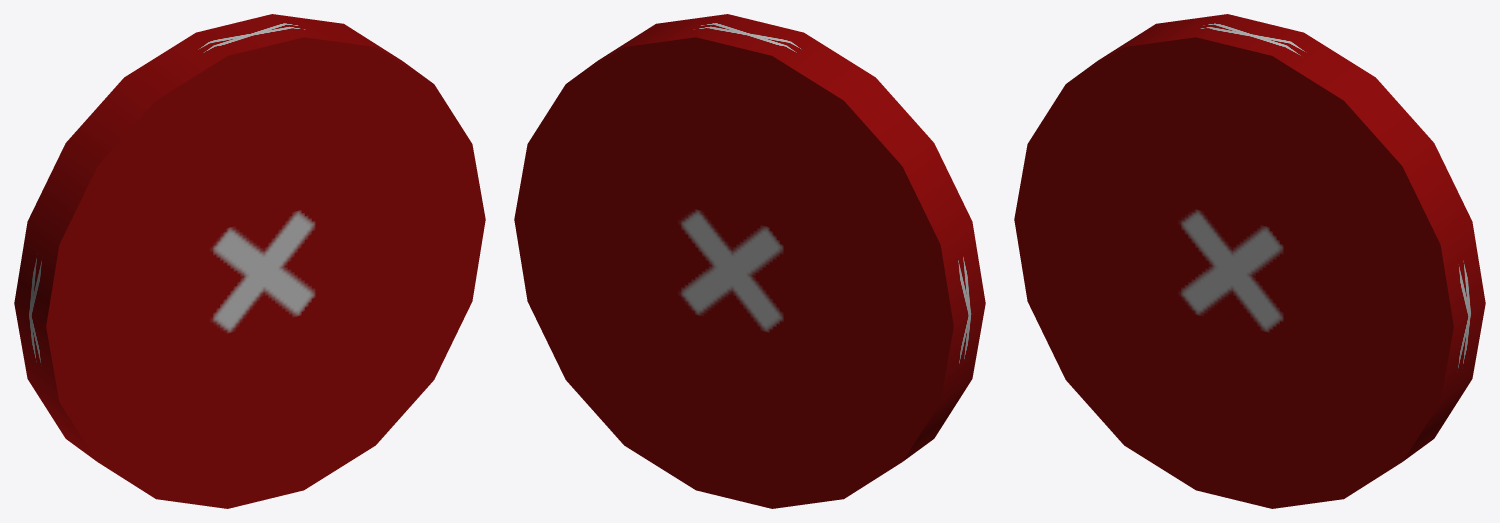
File: btn-close.glb
3 renders of one model, left to right at view 1: azimuth 30°, elevation 25°; view 2: azimuth 150°, elevation 25°; view 3: azimuth 330°, elevation 25°, orthographic.
Visible parts, largest first — view 1: Cylinder004; view 2: Cylinder004; view 3: Cylinder004.
Boxes of the visible parts, x1,y1,x2,y2 form: Cylinder004: (14, 14, 485, 508); Cylinder004: (514, 14, 985, 508); Cylinder004: (1014, 14, 1485, 508).
Bounding box in the file's own units: 0.1763 × 0.1736 × 0.0221.
Materials: 2 (2 with a texture image).
